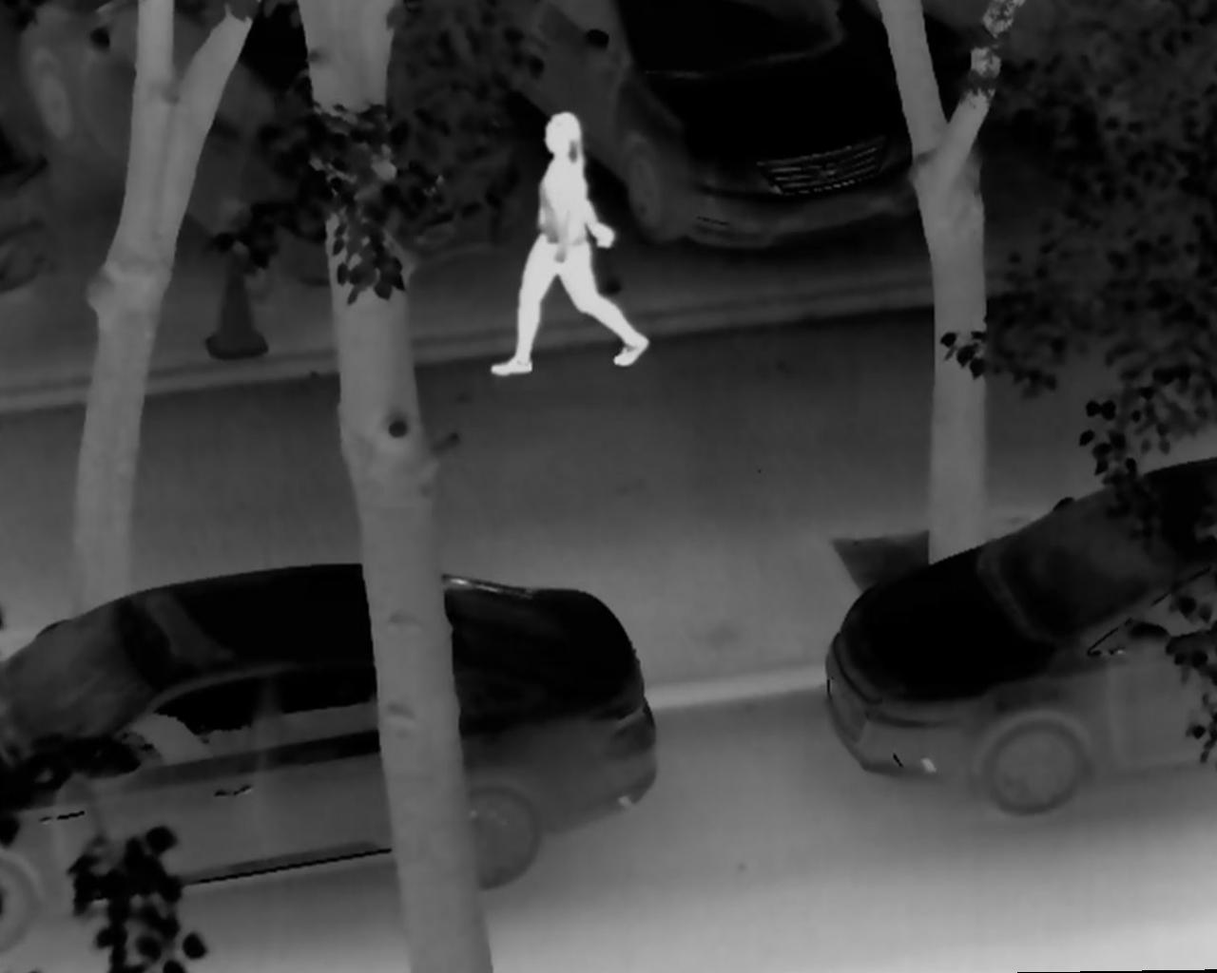person: (485, 106, 653, 382)
